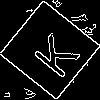K: (24, 25, 82, 81)
